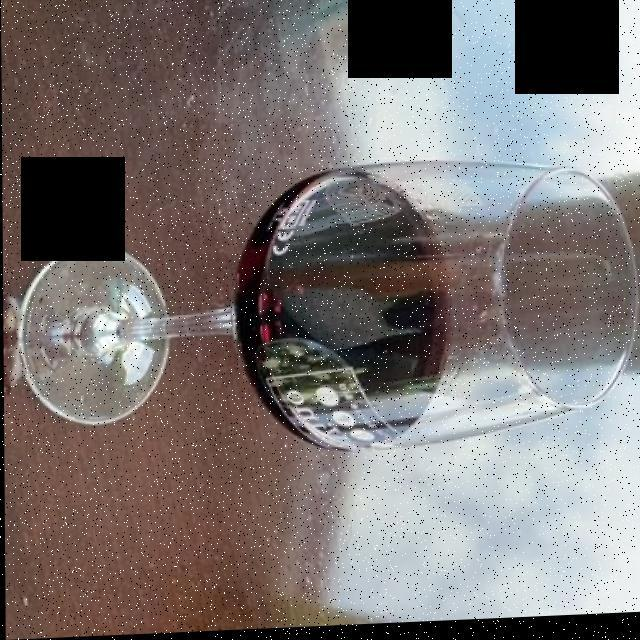wine: (250, 182, 451, 449)
